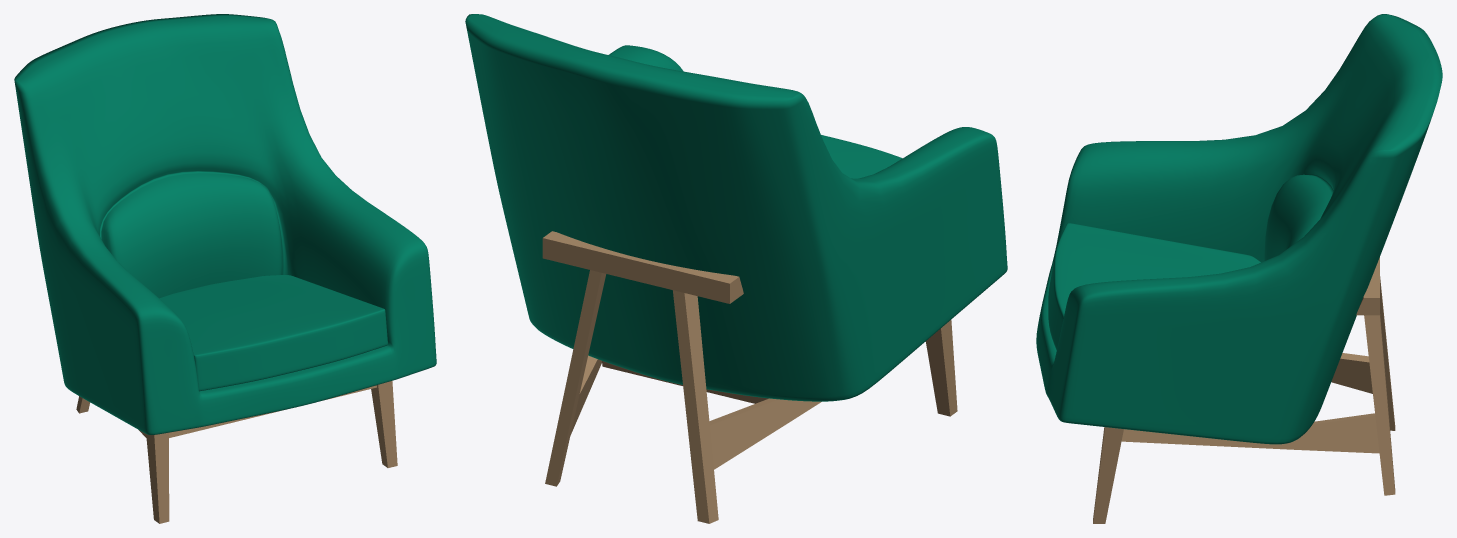
The model's file is chair2.glb.
3 views of the same model, side by side, from view 1: azimuth 30°, elevation 25°; view 2: azimuth 150°, elevation 25°; view 3: azimuth 270°, elevation 25° (orthographic). The views are drawn at different scales.
Parts seen in each view (by area): view 1: Chair, Cushion, LegFront; view 2: Chair, LegRear, Back_Support, Stretcher, LegFront, Cushion; view 3: Chair, Cushion, Stretcher, LegRear, LegFront, Back_Support.
Boxes of the visible parts, box(x1,y1,x2,y2) form: Chair: box(14, 14, 436, 434); Cushion: box(159, 275, 387, 391); LegFront: box(146, 381, 397, 523); Chair: box(465, 14, 1007, 401); LegRear: box(545, 270, 718, 523); Back_Support: box(542, 231, 743, 303); Stretcher: box(570, 355, 821, 469); LegFront: box(925, 320, 957, 416); Cushion: box(821, 135, 902, 178); Chair: box(1036, 14, 1442, 444); Cushion: box(1048, 223, 1260, 350); Stretcher: box(1121, 353, 1379, 453); LegRear: box(1364, 276, 1395, 495); LegFront: box(1093, 427, 1123, 523); Back_Support: box(1356, 257, 1379, 315).
Bounding box in the file's own units: 79.61 × 92.8 × 88.33.
